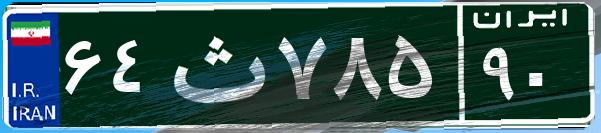0: (525, 38, 570, 115)
4: (110, 28, 158, 105)
5: (385, 28, 445, 110)
6: (57, 26, 110, 107)
7: (273, 28, 330, 110)
8: (330, 28, 385, 110)
9: (475, 38, 525, 113)
ث: (158, 15, 273, 115)
